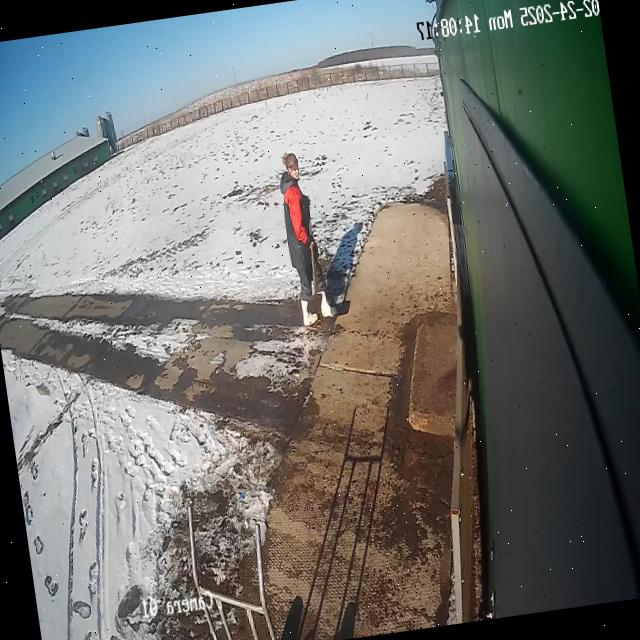Red uniform: (280, 153, 319, 326), (318, 269, 332, 317)
